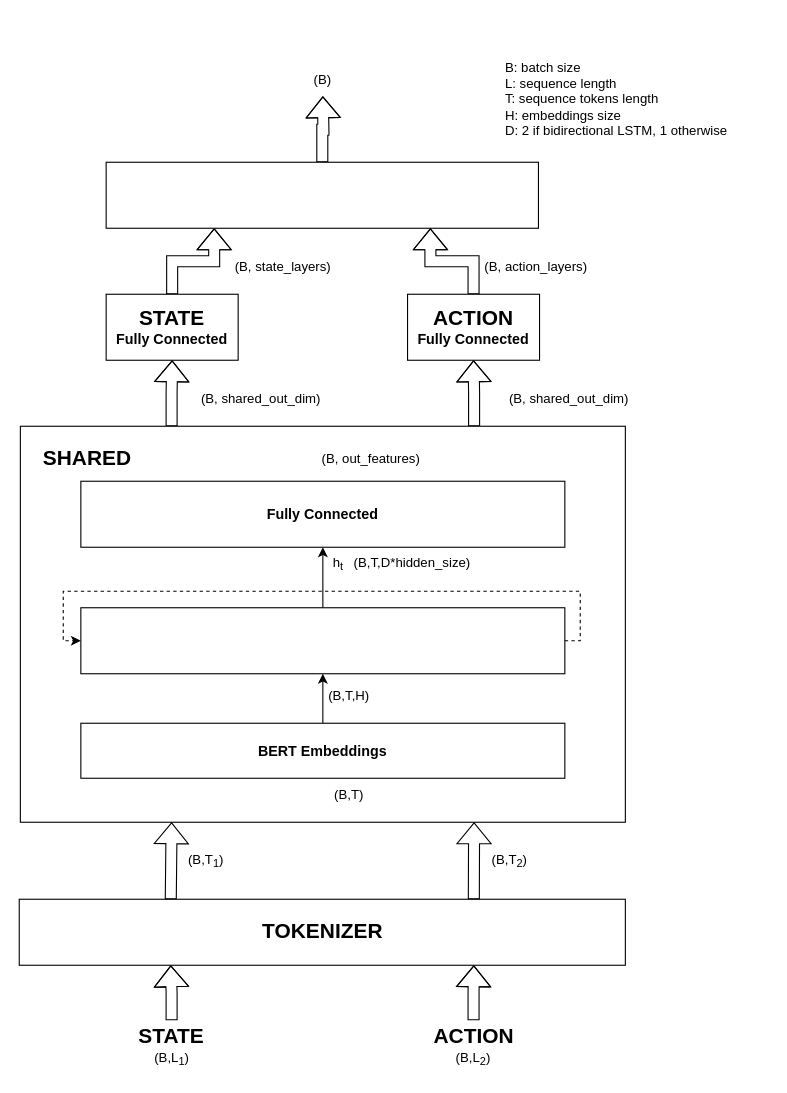
Image size: 787x1093. Some labels were removed from this diagram. Here are the shapes that lost their labels. From the top down, the box of each, then its label:
(105, 161, 538, 228): OUTPUT Fully Connected
(80, 607, 565, 674): LSTM
